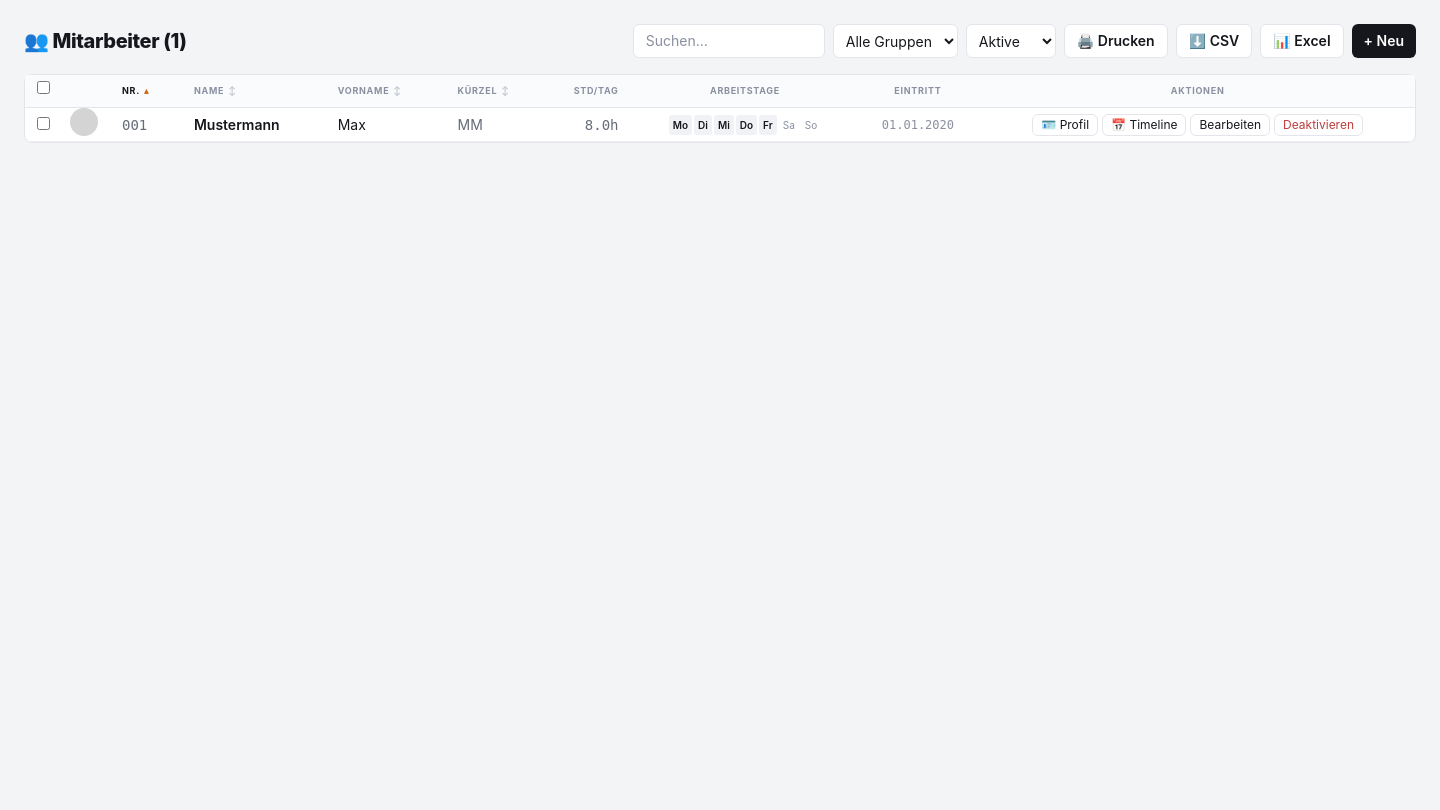
Test case: Berechnungsbasis Gesamtstunden (CALCBASE=3) › bietet die Option an und zeigt den Hinweis, solange Zeitraum/Stunden fehlen
Click the button "+ Neu". click: [1384, 41]
box: [1352,24,1416,58]
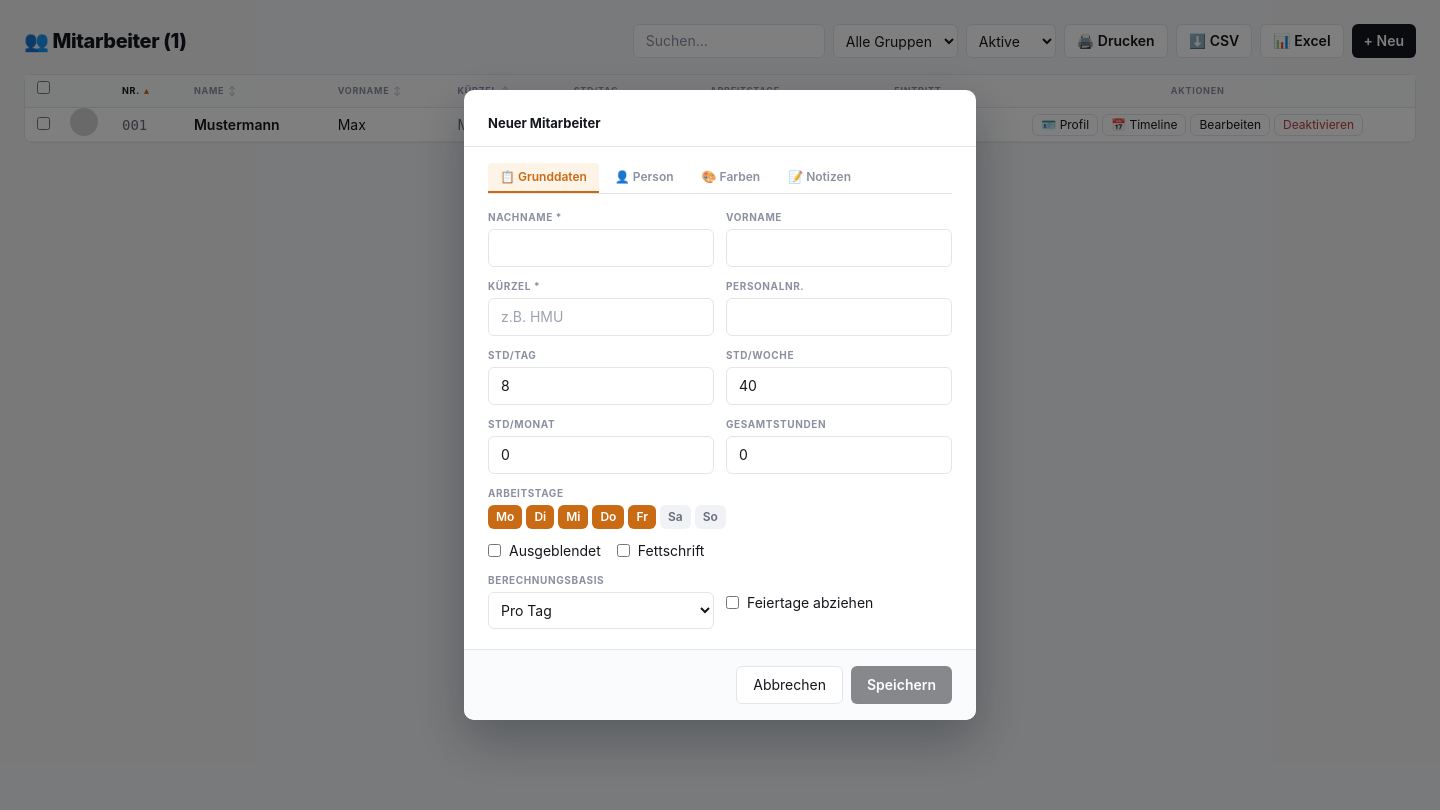
Select "Gesamtstunden (Beschäftigungszeitraum)" in the dropdown showing "Pro Tag". click: [601, 610]
box: [488,592,714,629]
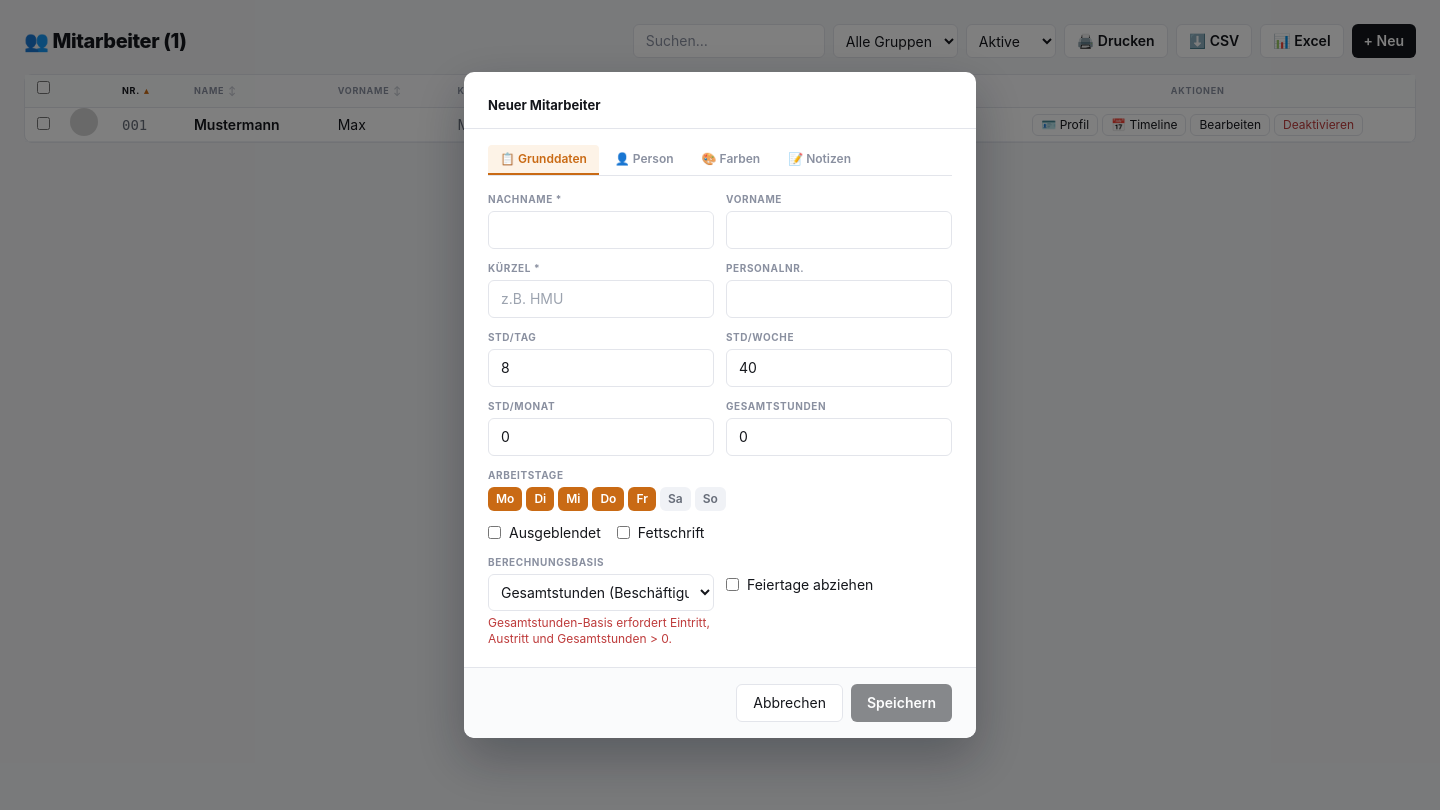
Check: the text "Gesamtstunden-Basis erfordert" is shown, box [488,615,710,646]
